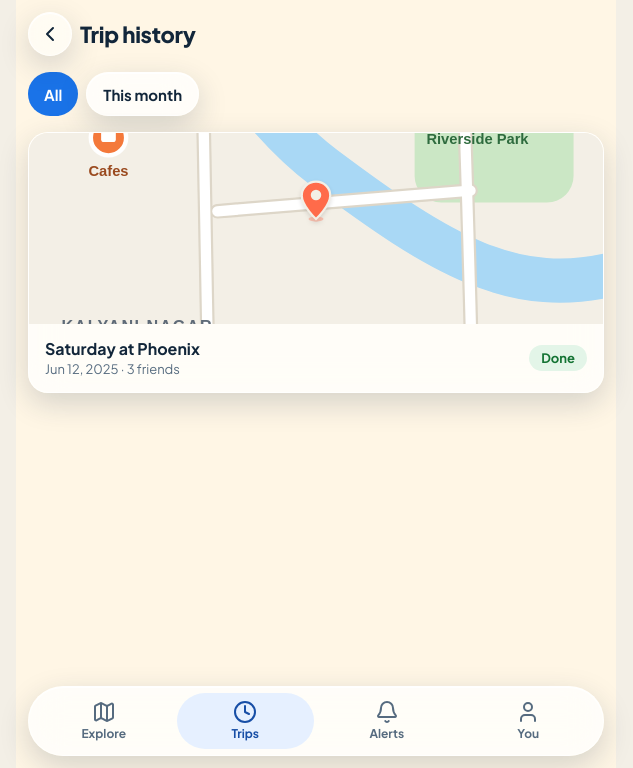
Test: Trip history › says when a filter leaves nothing
Expected: the list named "Trips" is shown, [28, 132, 604, 393]
What coordinates should you click on to do the following:
click the button "This month"
I would click on:
 (143, 94)
Its box is [86, 72, 199, 116].
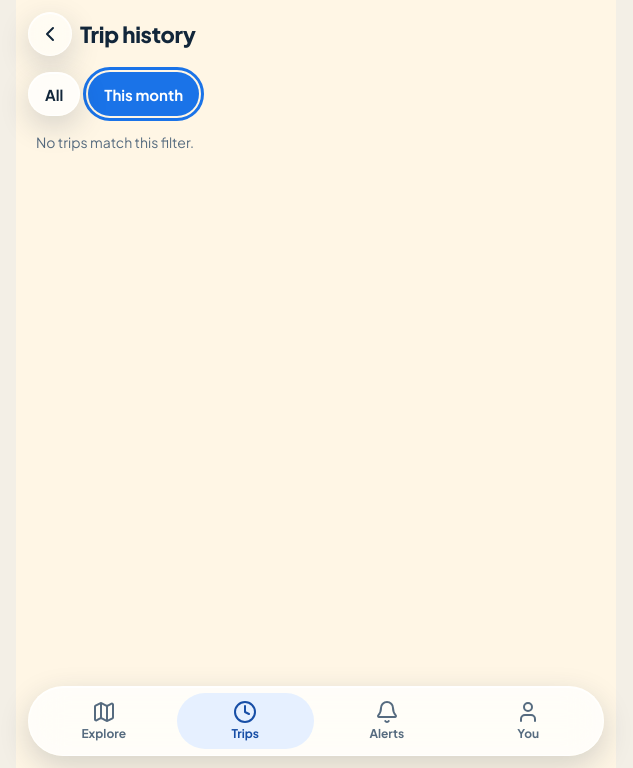
Now the text "No trips match this filter." is shown, box [36, 133, 194, 151]
